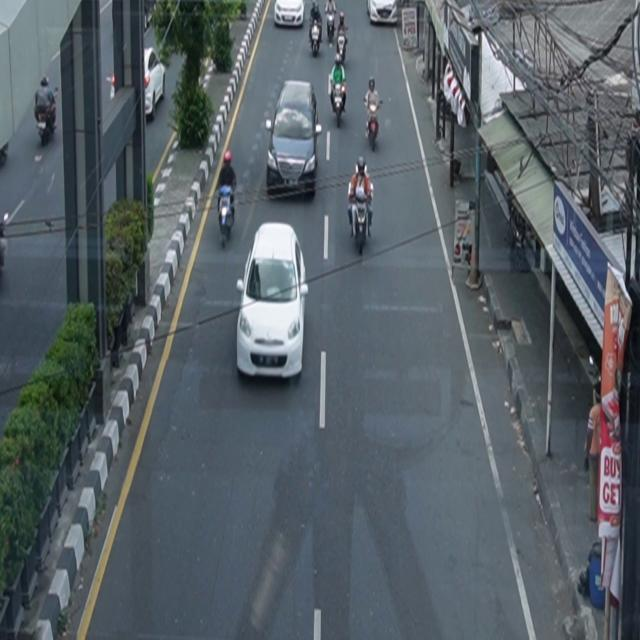car: (237, 222, 309, 381), (265, 80, 323, 199), (274, 1, 305, 28), (367, 1, 398, 26)
